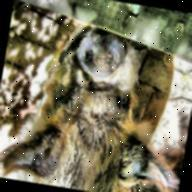boar: (3, 32, 187, 192)
